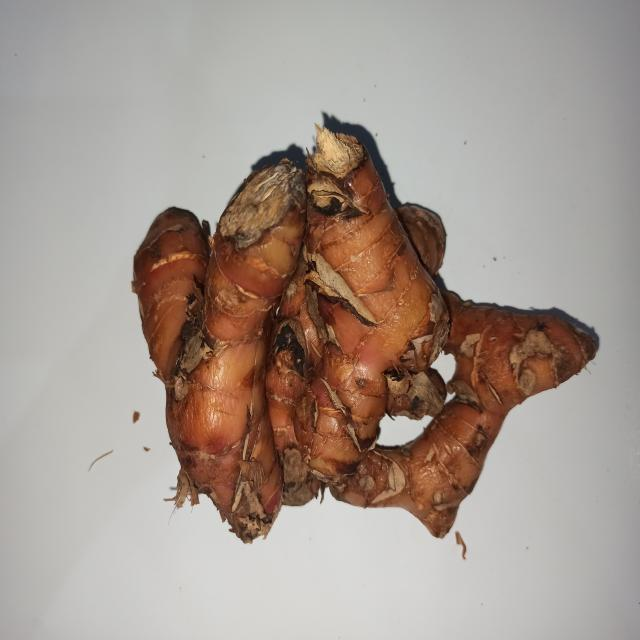ginger: (143, 116, 590, 543)
